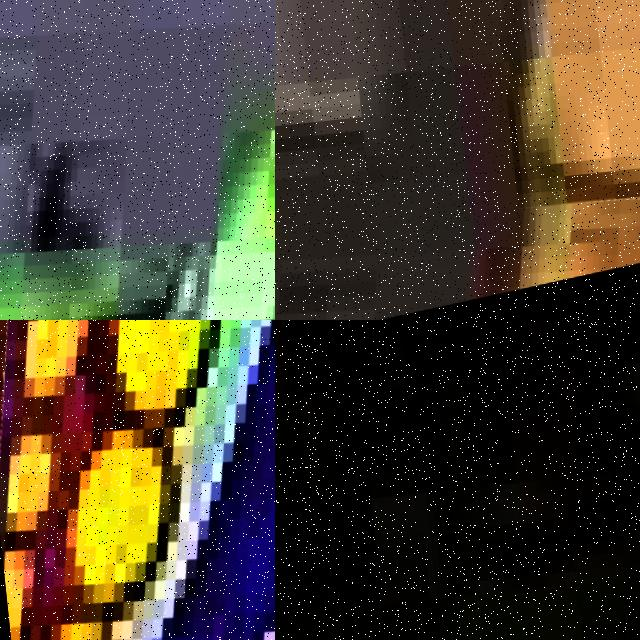drone: (0, 0, 275, 320), (0, 320, 275, 640), (275, 191, 640, 320)
